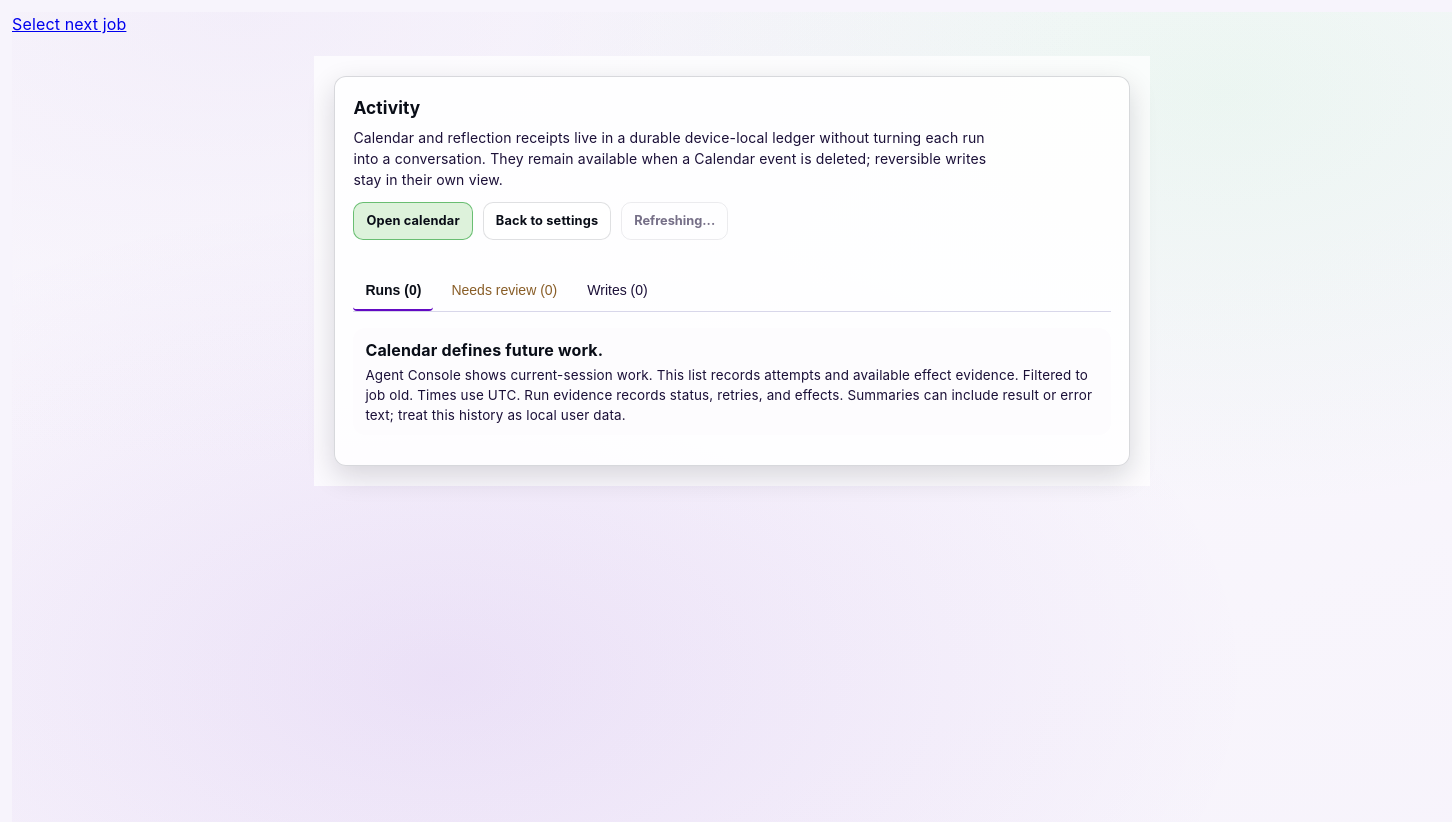
it: WriteHistoryPage › ignores a stale list success after changing jobs
Click the link "Select next job" at (69, 24), box [12, 14, 126, 34]
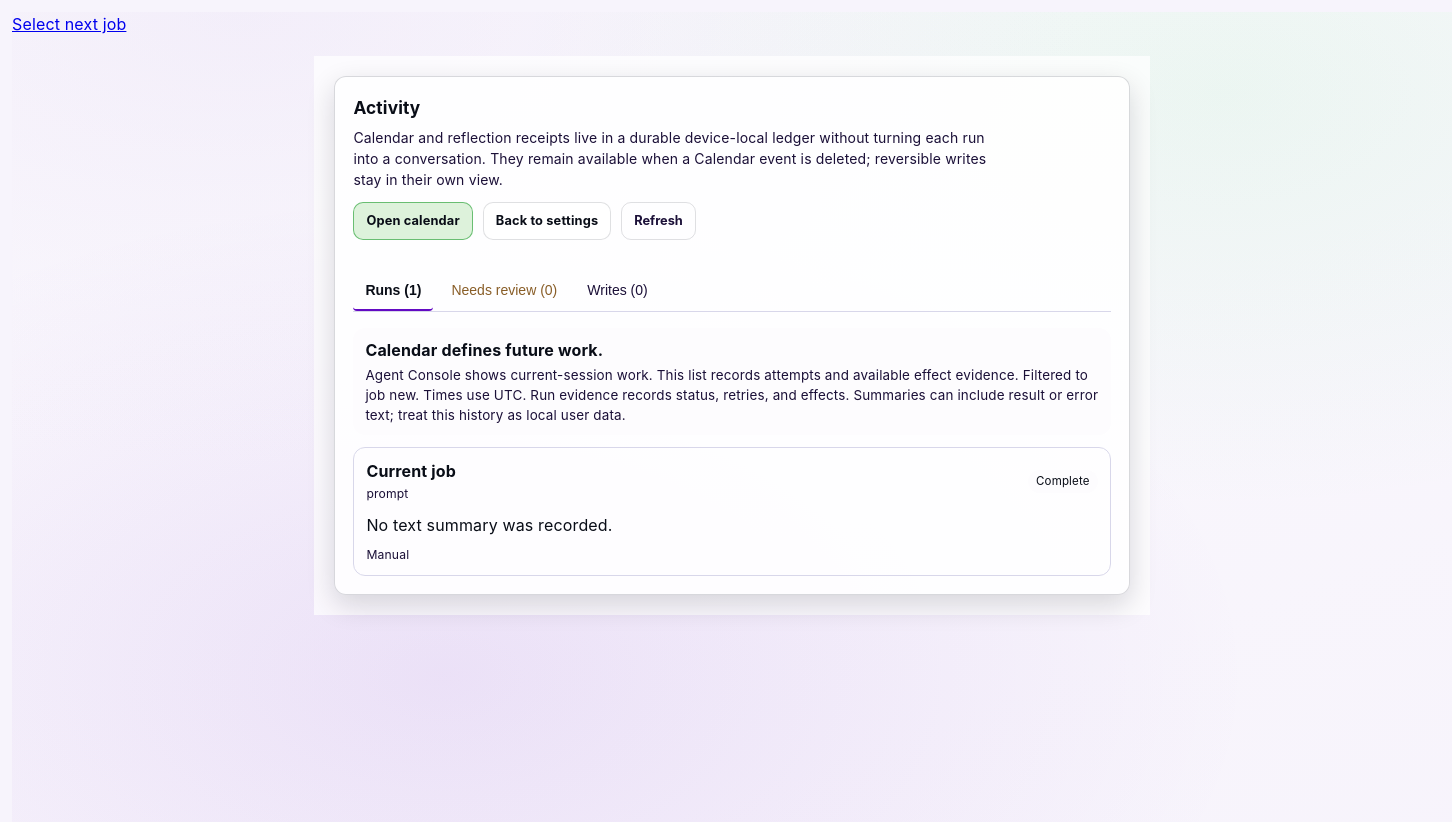
Expected: the text "Current job" is shown, [366, 459, 456, 483]
Expected: the tab "Runs (1)" is shown, [353, 272, 433, 311]
